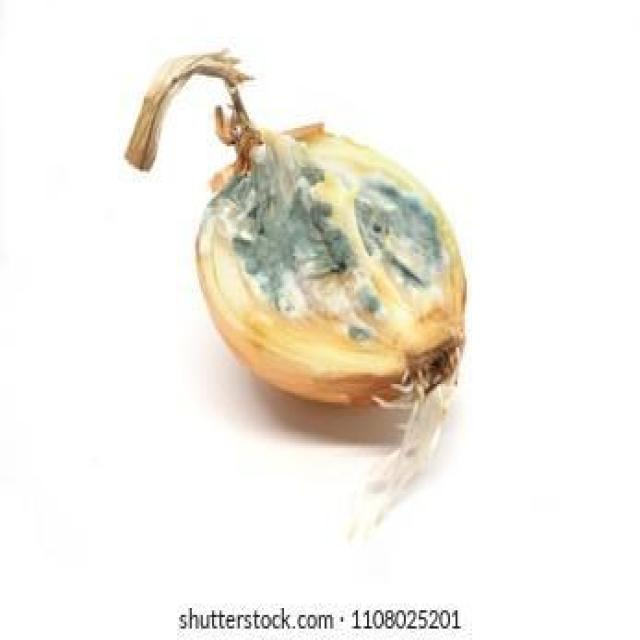Onion: (122, 55, 468, 530)
